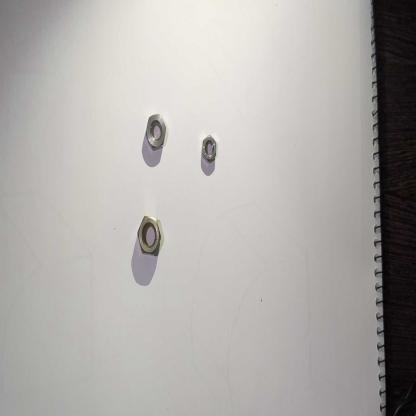NUTS: (137, 213, 163, 259), (144, 112, 168, 151), (202, 133, 220, 166)
